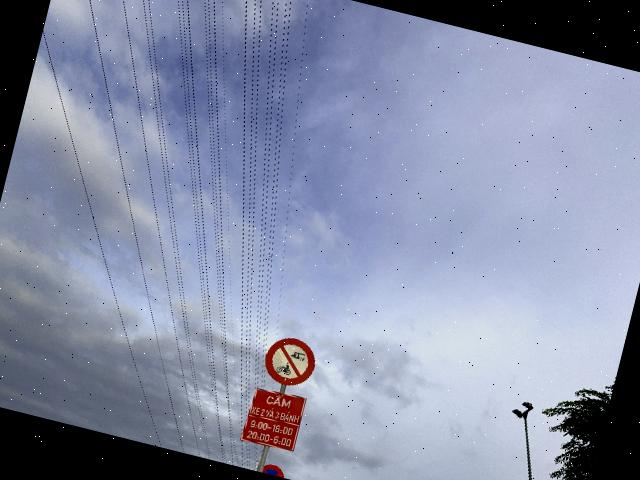cam-xe-2-banh-3-banh: (259, 332, 320, 391)
